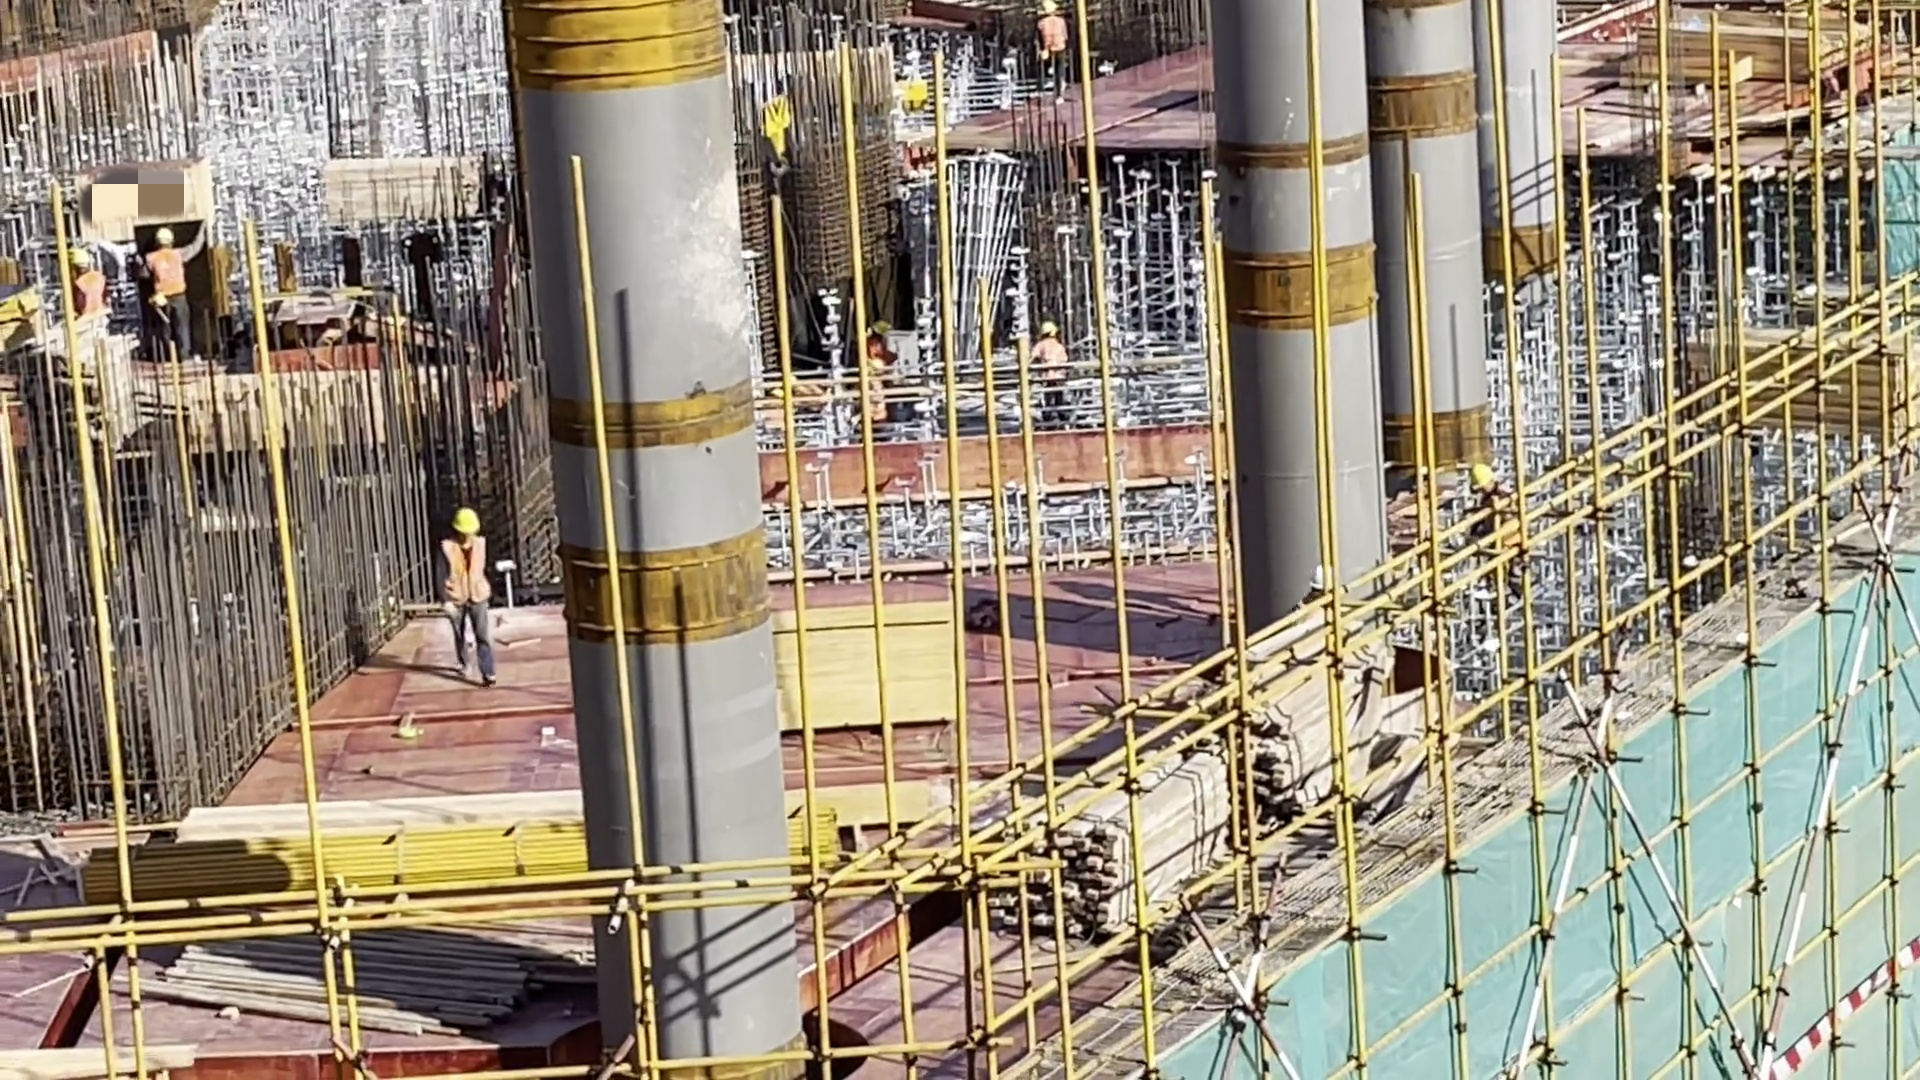helmet: (1462, 458, 1494, 495), (449, 501, 477, 535), (1035, 317, 1064, 348), (865, 313, 891, 340), (148, 228, 172, 245), (1036, 1, 1057, 13)
person: (434, 496, 507, 687), (1455, 462, 1533, 592), (138, 226, 208, 362), (1026, 321, 1086, 418), (53, 252, 117, 338), (1031, 1, 1080, 102), (862, 319, 896, 384)
vest: (442, 541, 488, 610), (147, 249, 192, 295), (69, 274, 105, 315), (1034, 18, 1070, 57), (1031, 340, 1066, 379)
